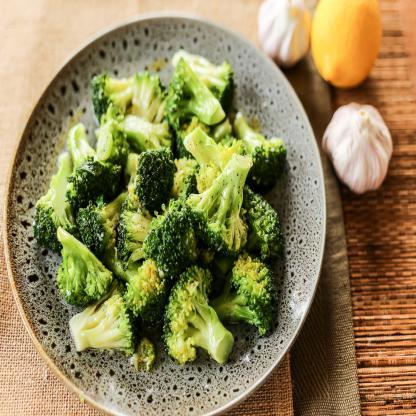broccoli: (28, 49, 286, 364)
